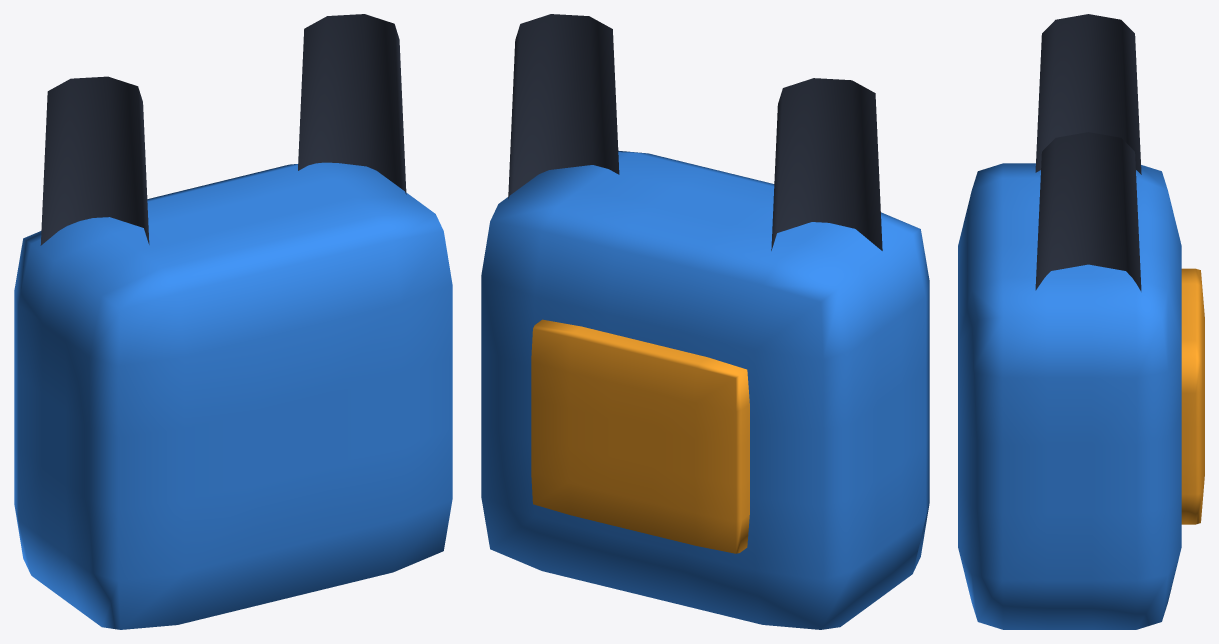
The model's file is core_fusion.obj.
3 views of the same model, side by side, from view 1: azimuth 30°, elevation 25°; view 2: azimuth 150°, elevation 25°; view 3: azimuth 270°, elevation 25° (orthographic). The views are drawn at different scales.
Bounding box in the file's own units: 0.42 × 0.56 × 0.265.
